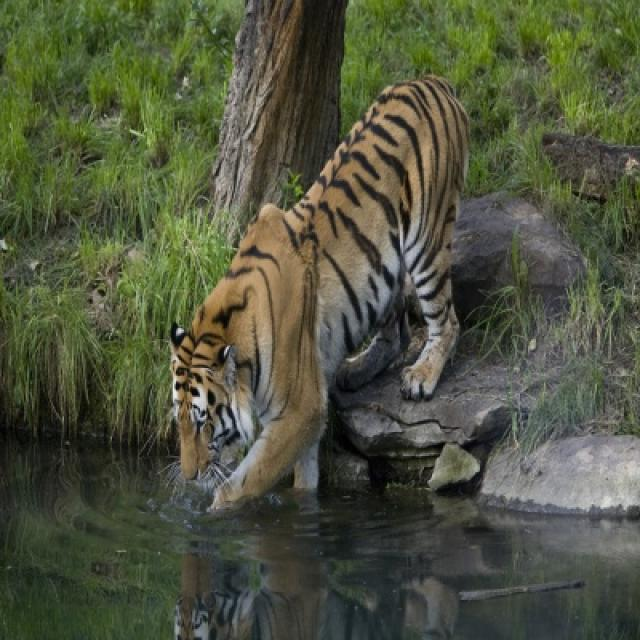Tiger: (170, 75, 467, 507)
